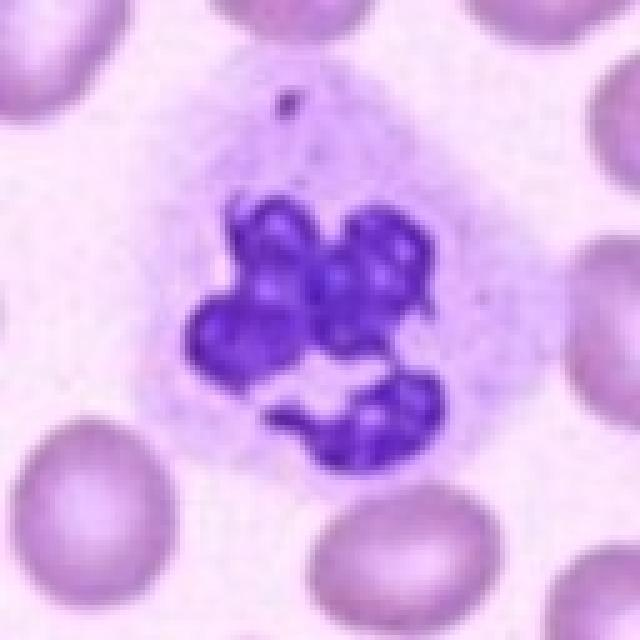neutro: (116, 120, 546, 508)
